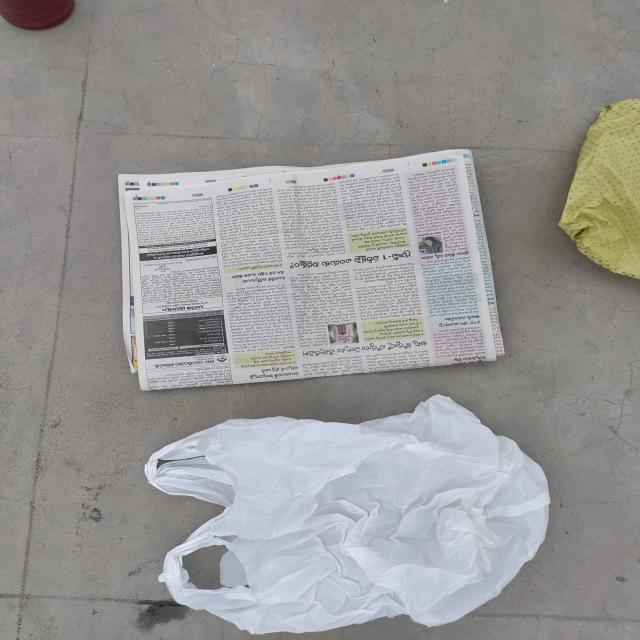dry: (118, 414, 608, 635), (100, 150, 537, 394), (566, 96, 640, 287)
